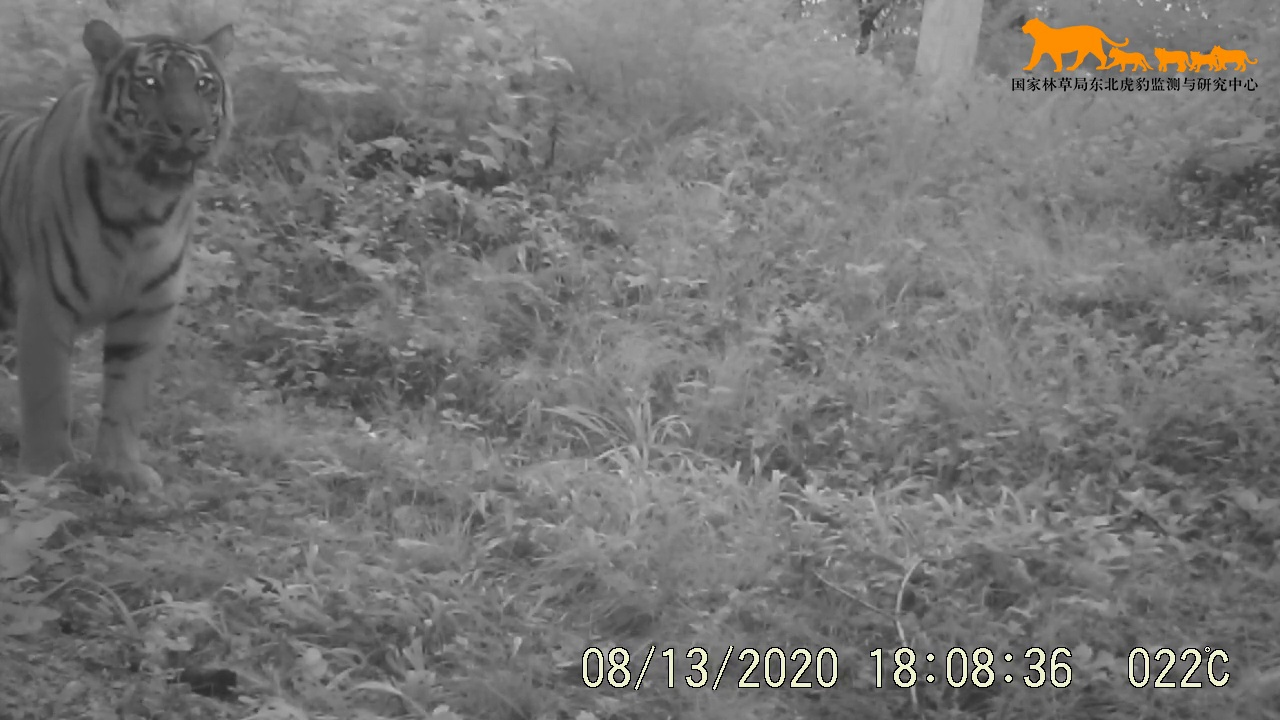Tiger: (1, 16, 282, 512)
